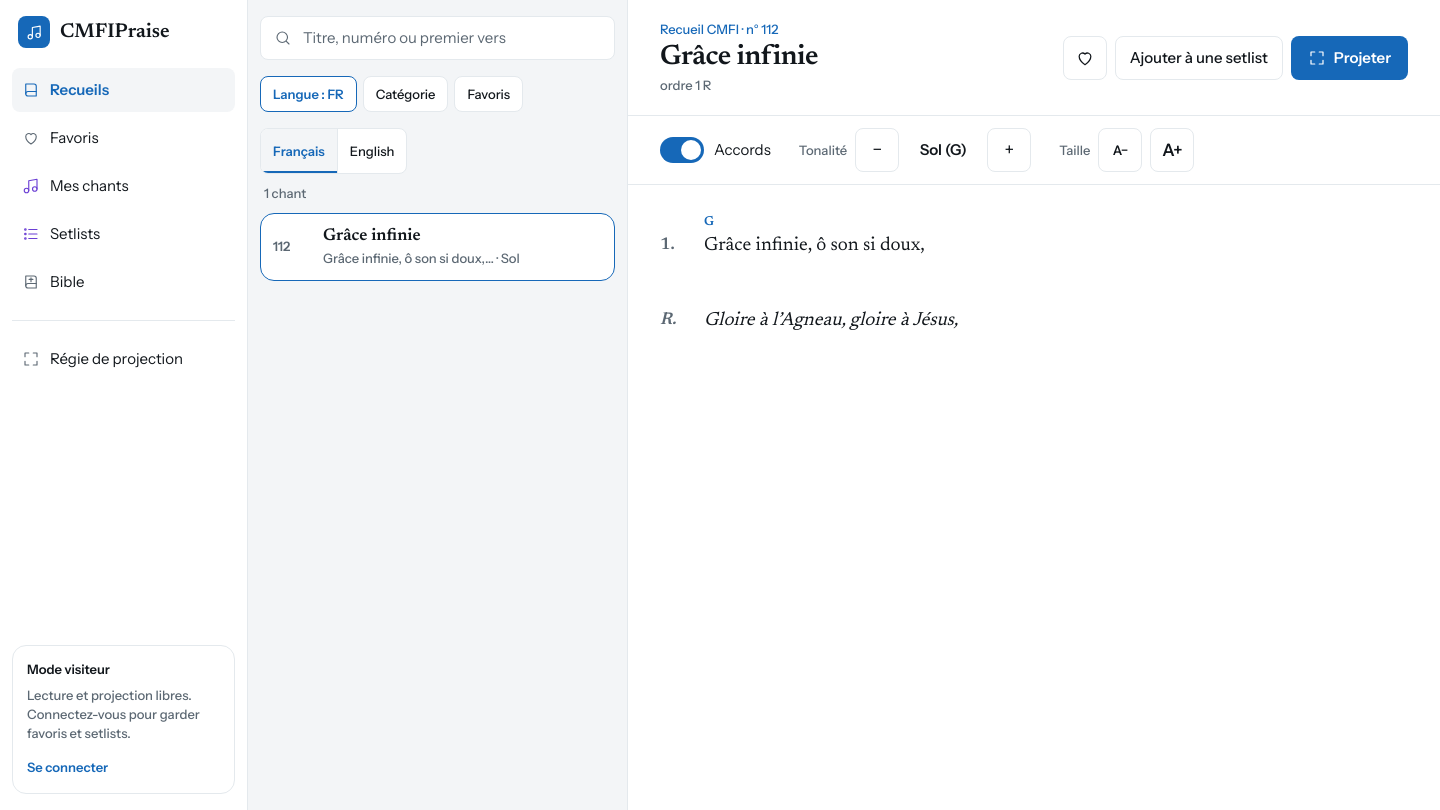
bibliothèque › liste le recueil, ouvre le chant, transpose et agrandit
The width and height of the screenshot is (1440, 810).
Check: the heading "Grâce infinie" is shown, box [660,43,818,71]
Check: the text "Recueil CMFI · n° 112" is shown, box [660,21,778,37]
Click the button named "Transposer d’un demi-ton plus haut" at (1009, 150), box [987,128,1031,172]
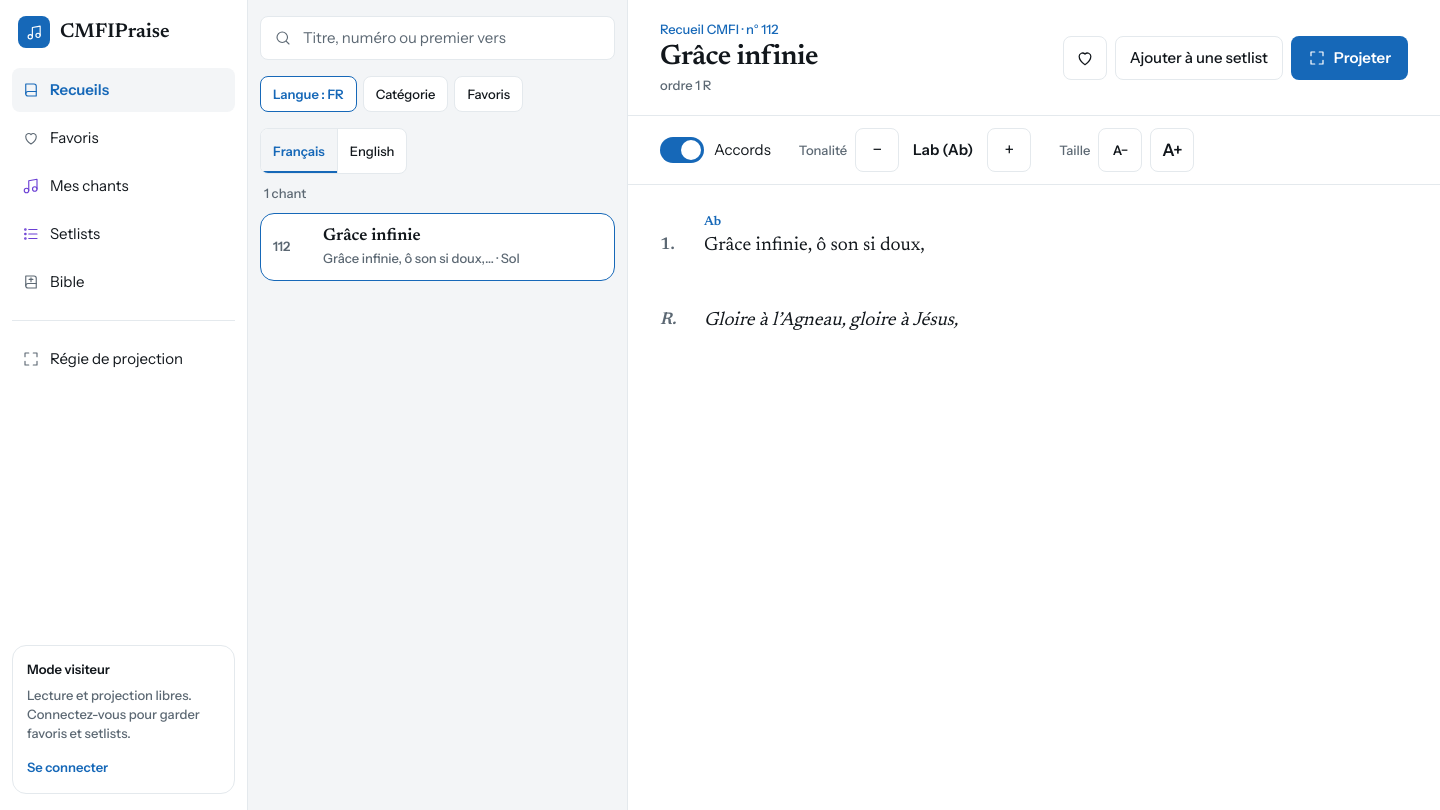
Check: the text "Lab (Ab)" is shown, box [913,140,973,159]
Click the switch labelled "Accords" at (715, 150), box [660,128,771,172]
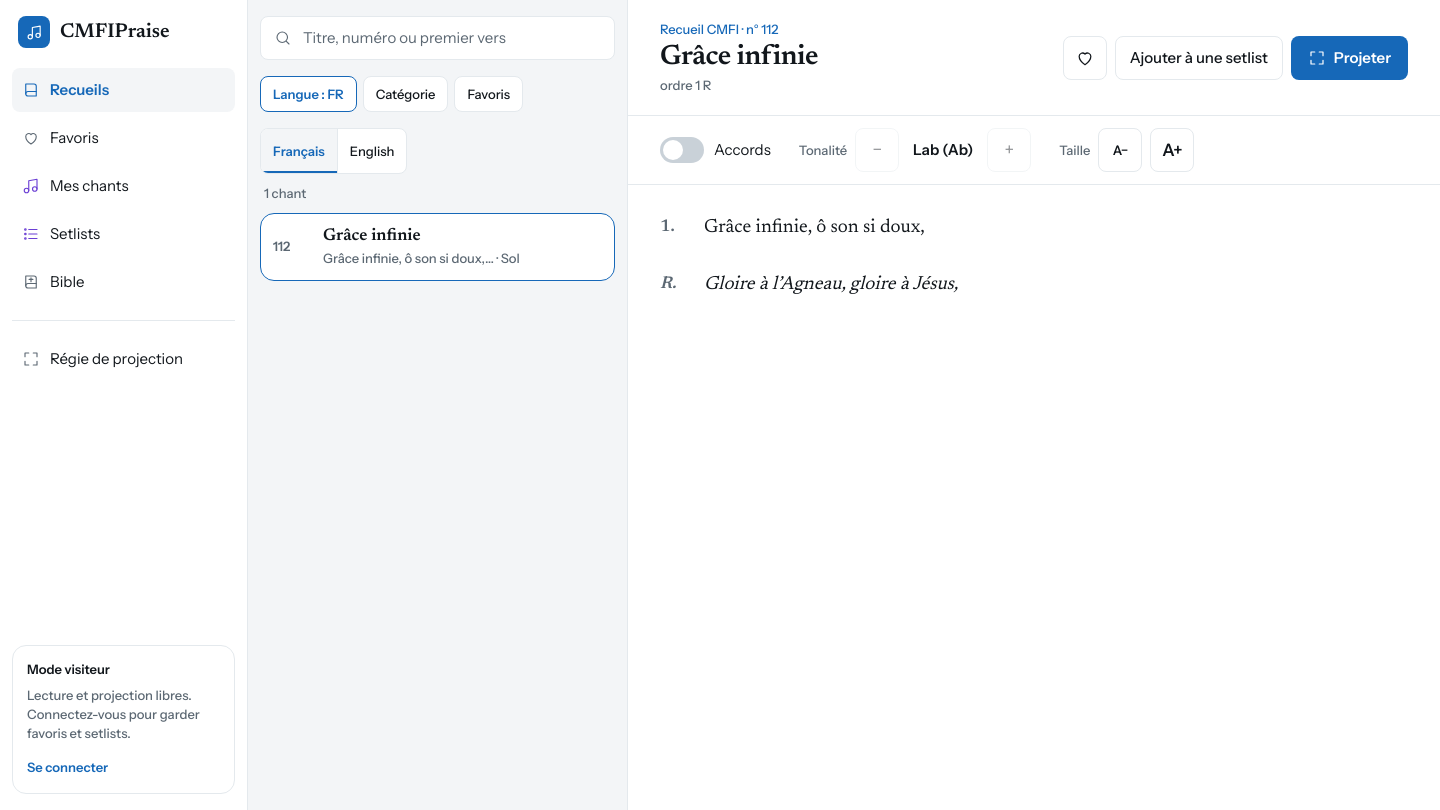
Check: the button named "Transposer d’un demi-ton plus haut" is disabled, box [987,128,1031,172]
Check: the switch labelled "Accords" is not checked, box [660,128,771,172]
Type "112" into the search field named "Rechercher un chant" at (438, 38), box [260,16,615,60]
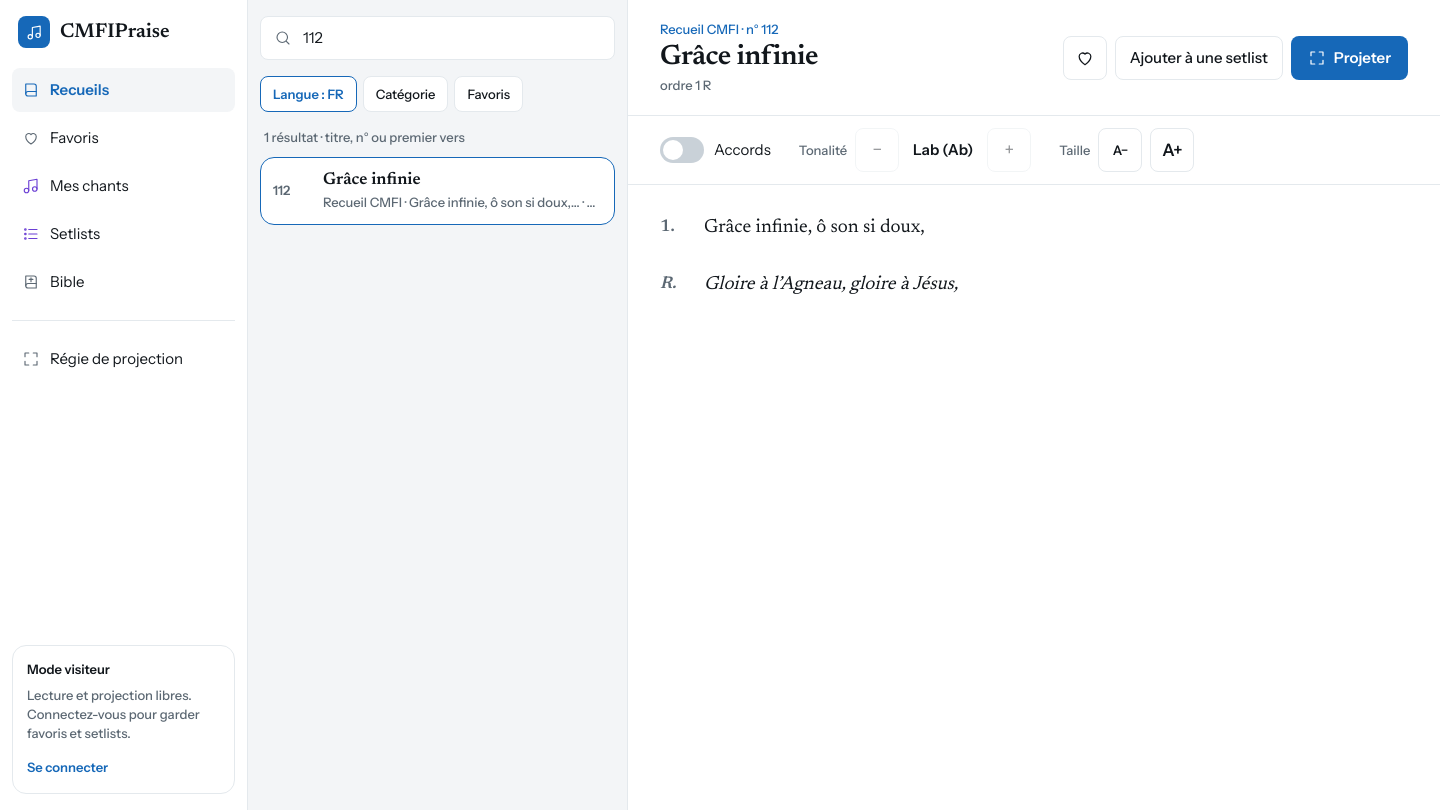
Check: the text "1 résultat · titre, n° ou premier vers" is shown, box [264,129,465,145]
